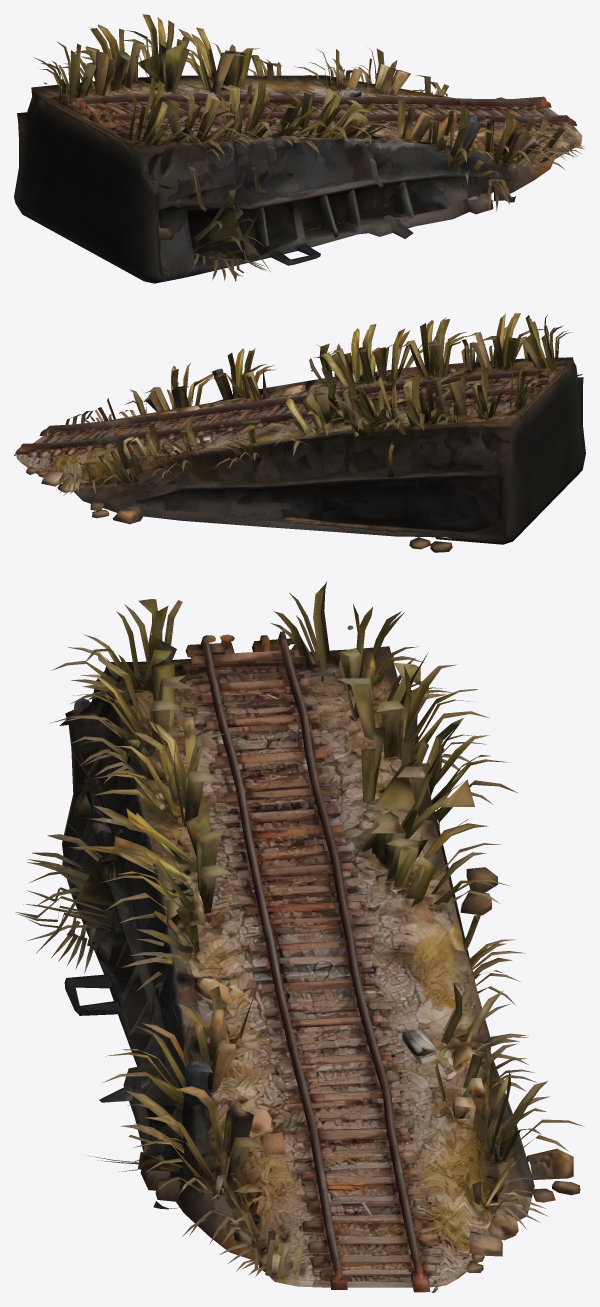
Rendered from site-railway-embankment.glb.
The picture shows the model from 3 angles, top to bottom: view 1: azimuth 30°, elevation 25°; view 2: azimuth 150°, elevation 25°; view 3: azimuth 270°, elevation 25°; orthographic projection. The views are drawn at different scales.
Visible parts, largest first — view 1: site-railway-embankment; view 2: site-railway-embankment; view 3: site-railway-embankment.
Boxes of the visible parts, left/top/right/bottom form: site-railway-embankment: left=14, top=14, right=584, bottom=283; site-railway-embankment: left=14, top=313, right=585, bottom=552; site-railway-embankment: left=15, top=582, right=584, bottom=1292.
Bounding box in the file's own units: 0.9995 × 0.3853 × 0.5894.
Materials: 1 (1 with a texture image).
